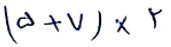character: (2, 4, 18, 45), (147, 6, 164, 30), (114, 15, 132, 37), (91, 10, 103, 40), (17, 11, 36, 29), (42, 15, 61, 32), (66, 13, 83, 31)
